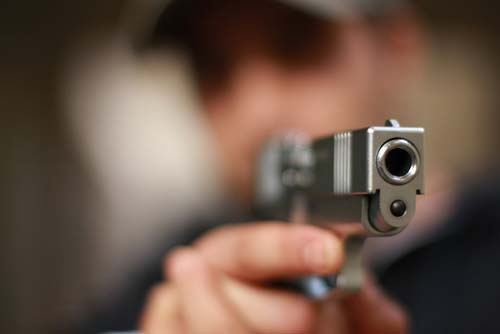gun: (252, 116, 430, 308)
